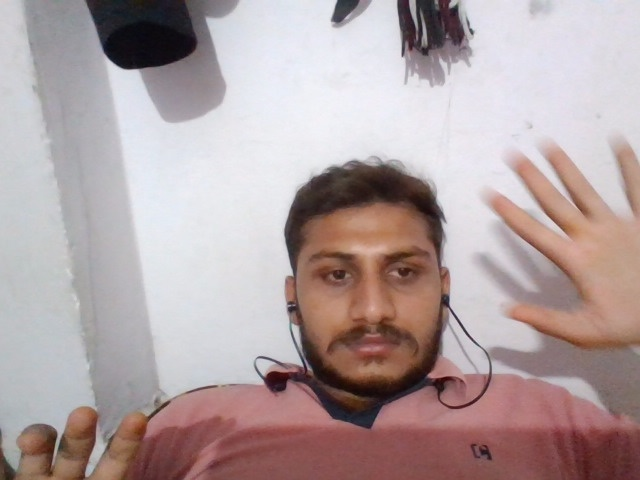Hello: (480, 109, 640, 353)
